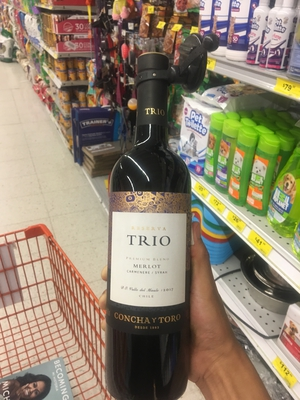trio merlot: (86, 51, 204, 378)
